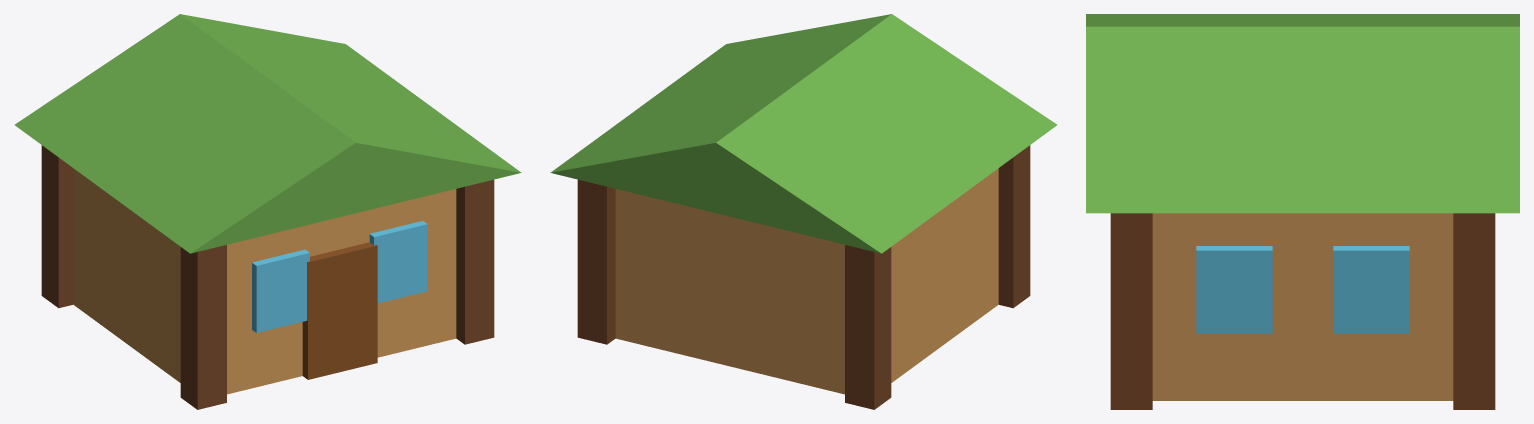
Rendered from garden.glb.
The picture shows the model from 3 angles, left to right: view 1: azimuth 30°, elevation 25°; view 2: azimuth 150°, elevation 25°; view 3: azimuth 270°, elevation 25°; orthographic projection. The views are drawn at different scales.
Parts seen in each view (by area): view 1: beams; view 2: beams; view 3: beams.
Part boxes in pixels (<box>): beams: <box>14,14,521,409</box>; beams: <box>550,14,1057,409</box>; beams: <box>1086,14,1519,409</box>.
Bounding box in the file's own units: 1.24 × 0.852 × 1.14.
